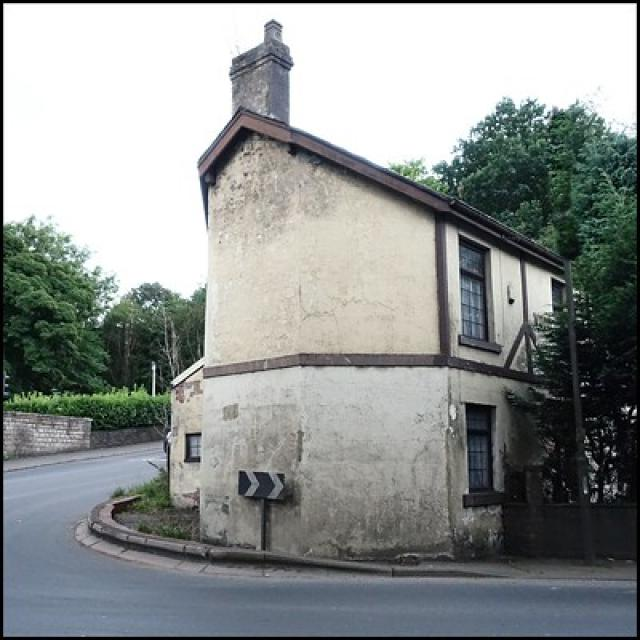building: (163, 55, 602, 569)
